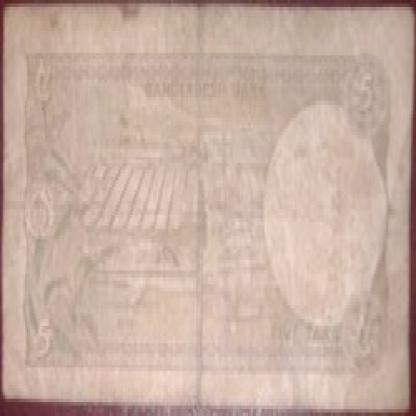Five Taka: (351, 302, 378, 371), (356, 62, 376, 132), (32, 305, 55, 364), (32, 52, 53, 107)
